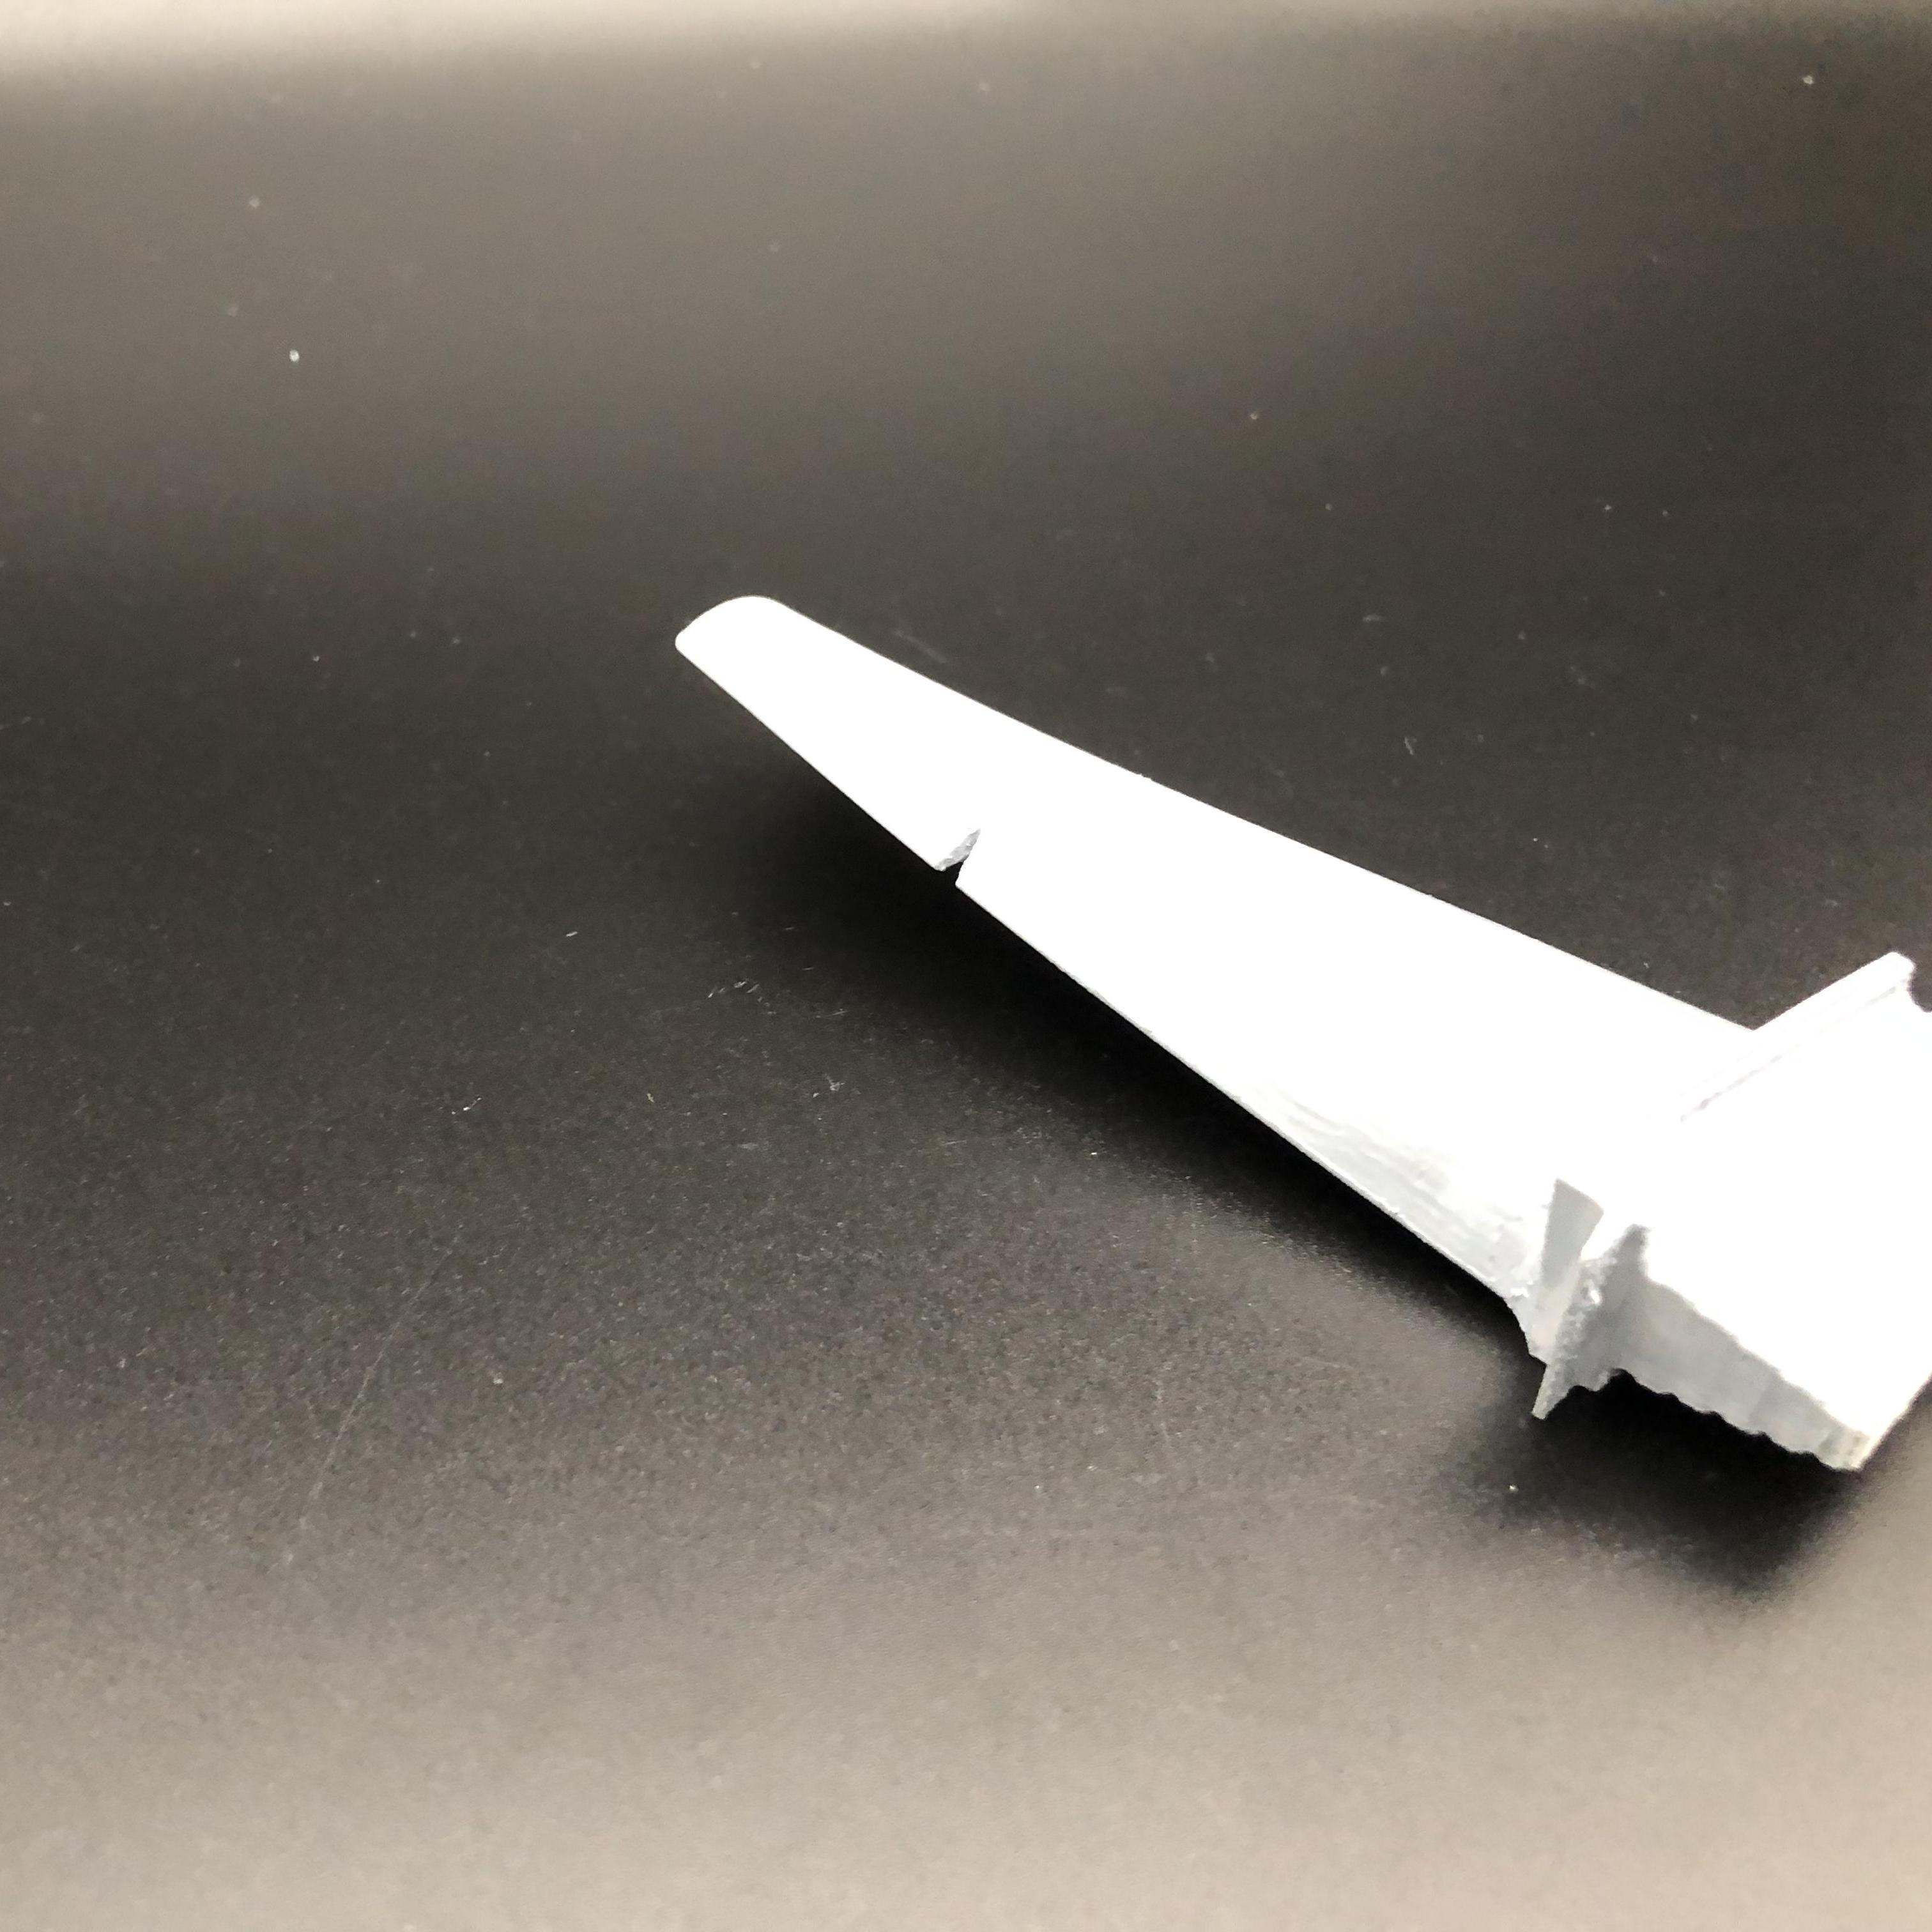groove: (929, 821, 987, 888)
